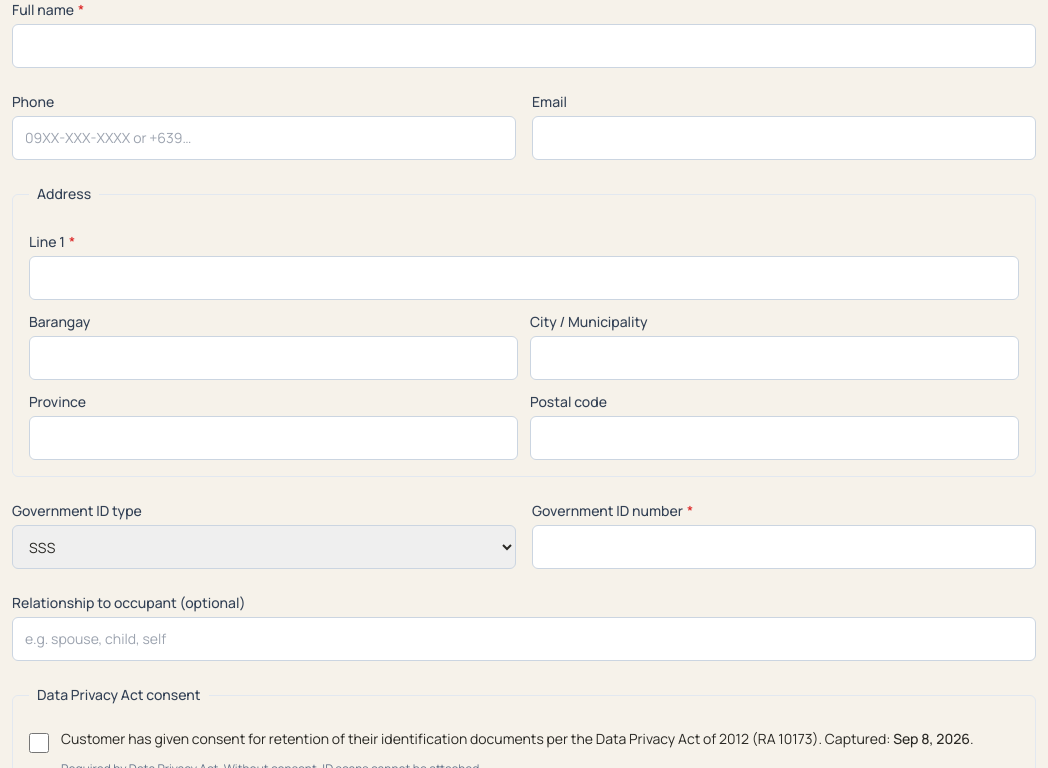
Test case: CustomerForm — AC2 successful submit › surfaces a translated error when the mutation rejects
This screenshot has width=1048, height=768.
Step 1. Type "Maria Cruz" into the field labelled "Full name*" → (524, 46), box [12,24,1036,68]
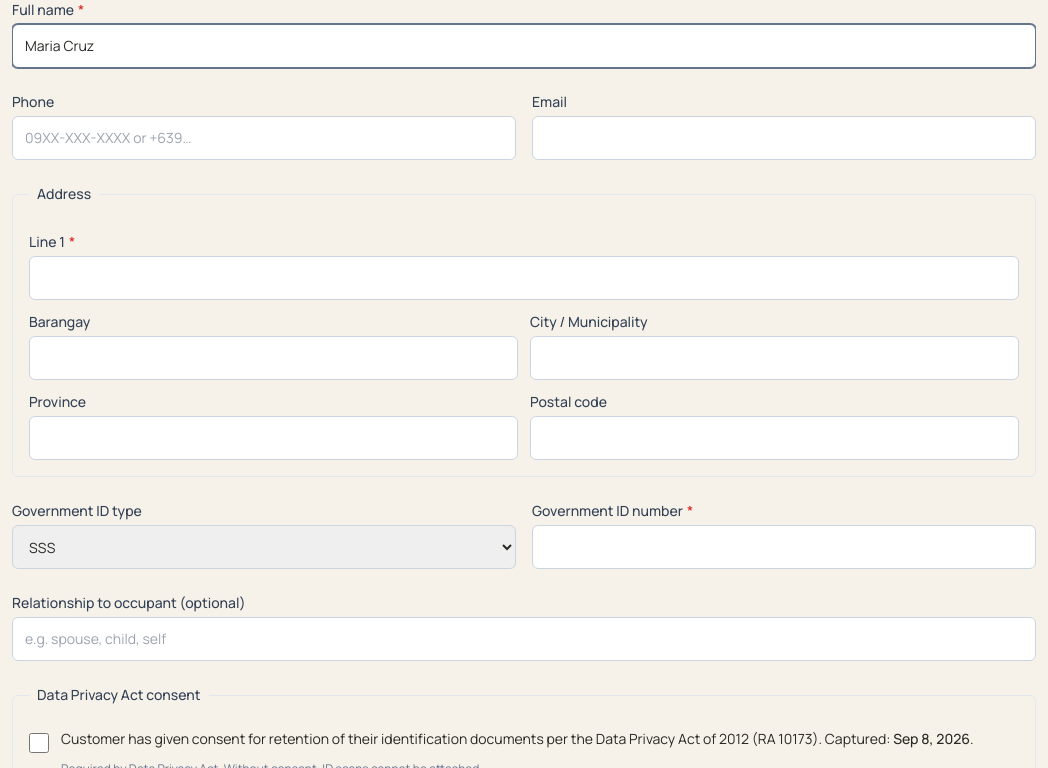
Step 2. Type "123 Main St" into the field labelled "Line 1*" → (524, 278), box [29,256,1019,300]
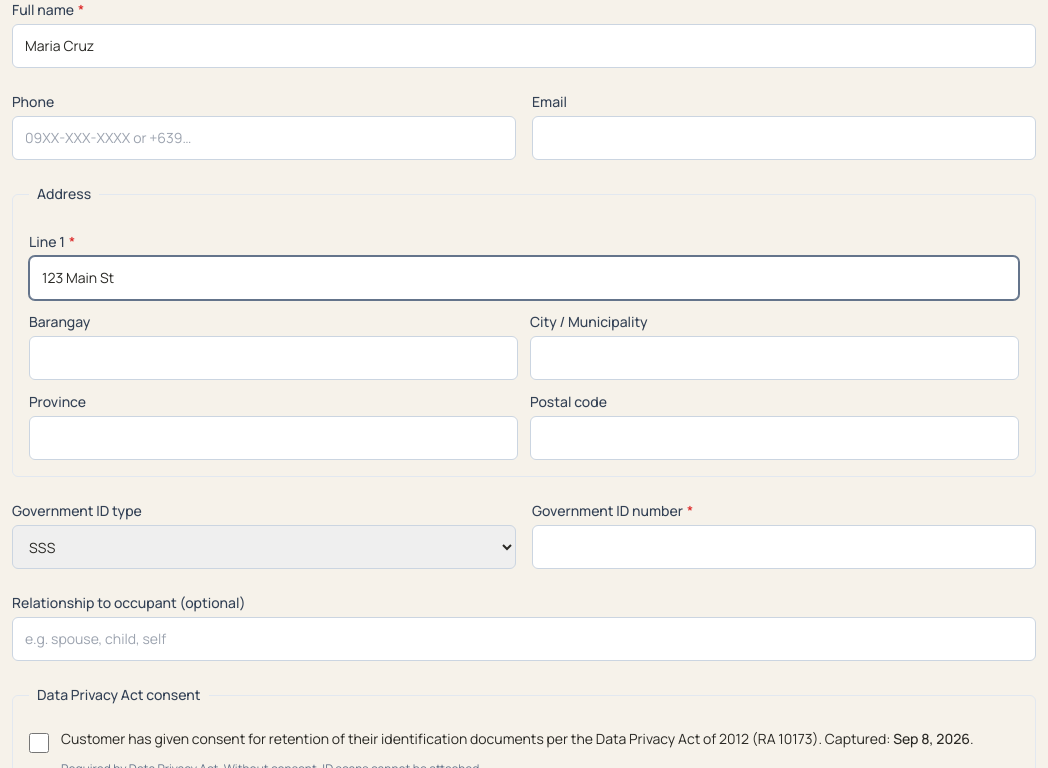
Step 3. Type "1234-5678-9012" into the field labelled "Government ID number*" → (784, 547), box [532,525,1036,569]
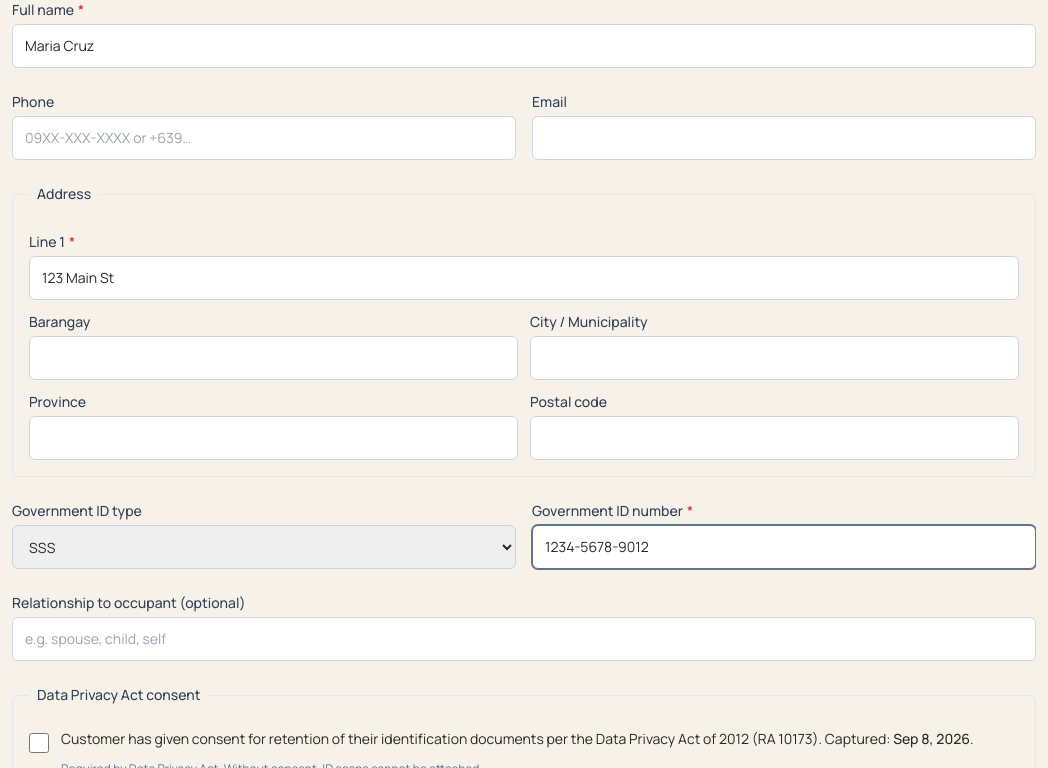
Step 4. Click the checkbox → (39, 743), box [29,733,49,753]
(page scrolled)
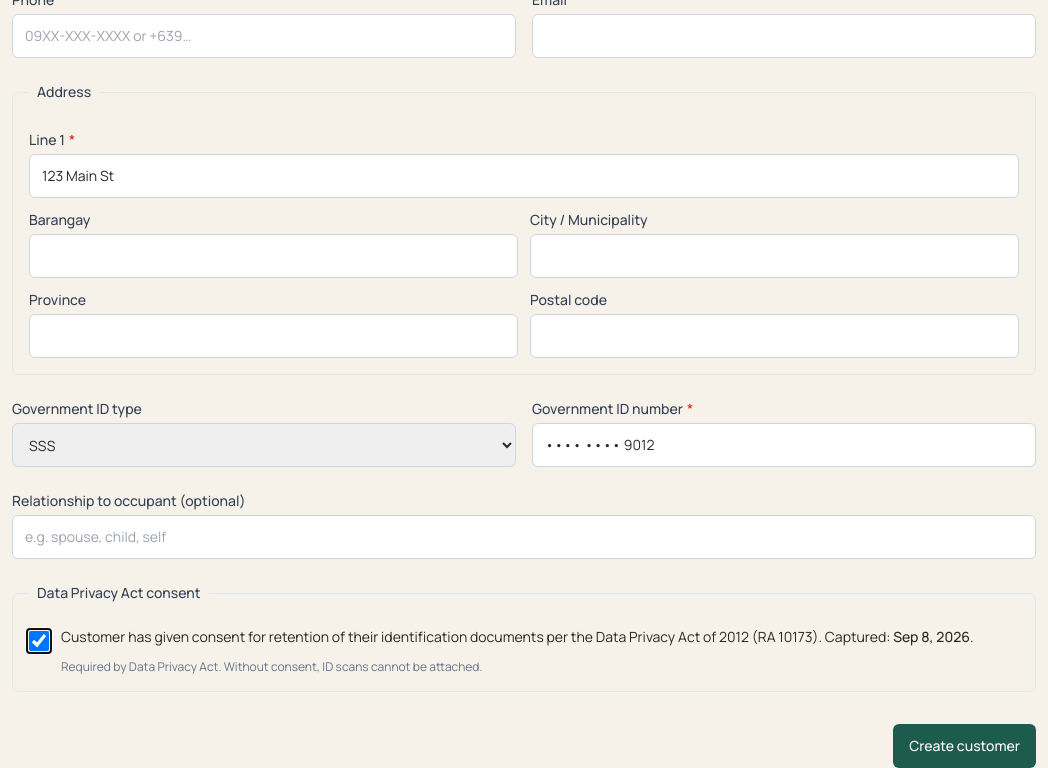
Step 5. Click the button "Create customer" → (965, 746), box [893,724,1036,767]
(page scrolled)
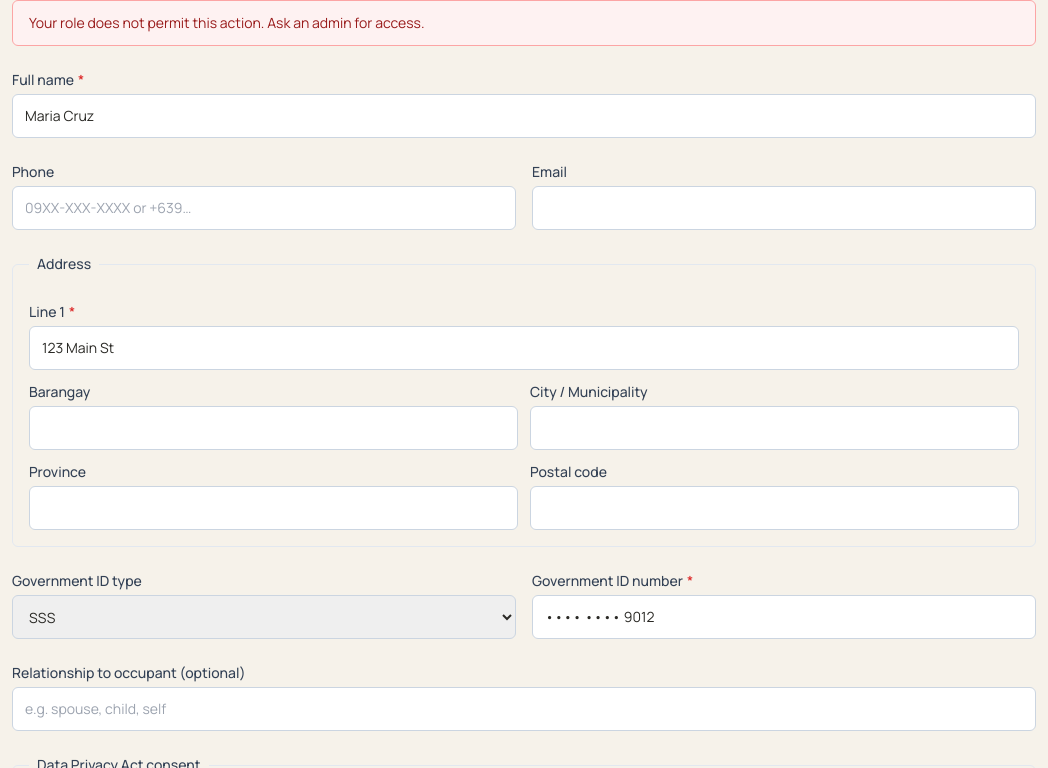
Check: the message "Your role does not permit this action. Ask an admin for access." is shown, box [12,0,1036,46]
